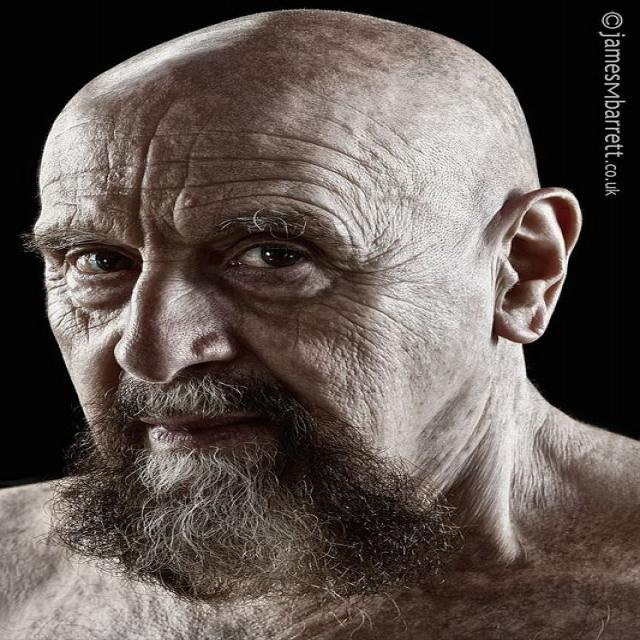earlobe: (499, 186, 582, 344)
